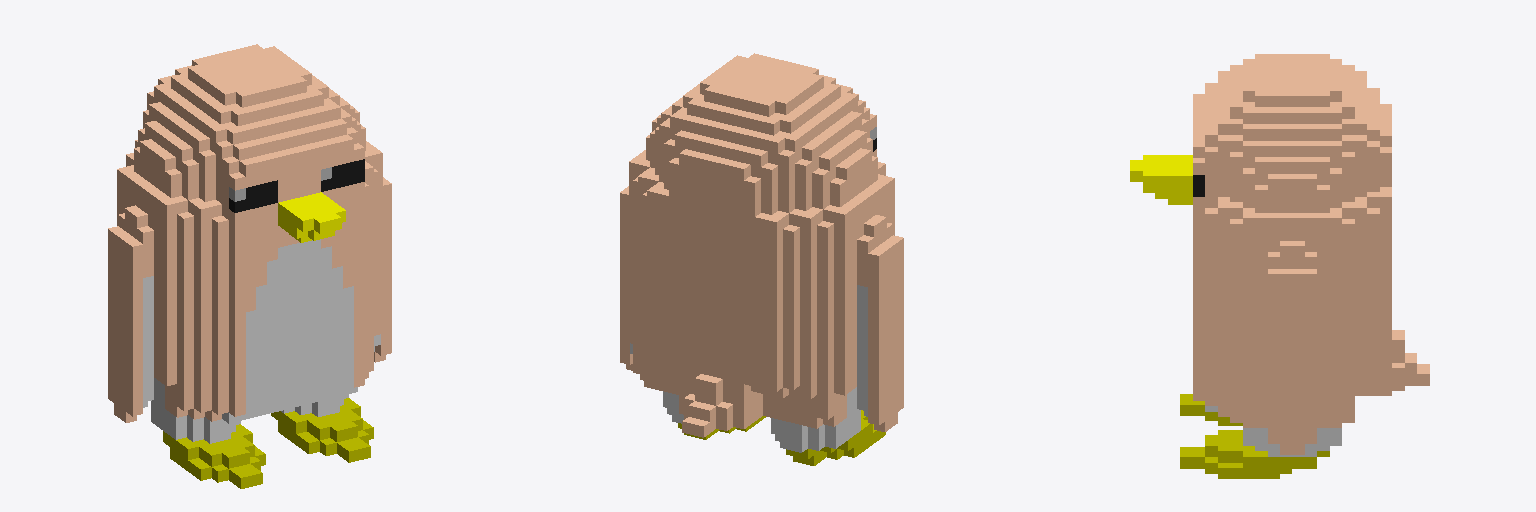
The picture shows the model from 3 angles: view 1: azimuth 30°, elevation 25°; view 2: azimuth 150°, elevation 25°; view 3: azimuth 270°, elevation 25°; orthographic projection.
Visible parts, largest first — view 1: object 1; view 2: object 1; view 3: object 1.
Boxes of the visible parts, box(x1,y1,x2,y2) form: object 1: box(108, 44, 391, 488); object 1: box(620, 53, 903, 465); object 1: box(1130, 54, 1429, 478).
Size of the model in its own units: 2.4 by 3.2 by 2.4.
Materials: 1 (1 with a texture image).